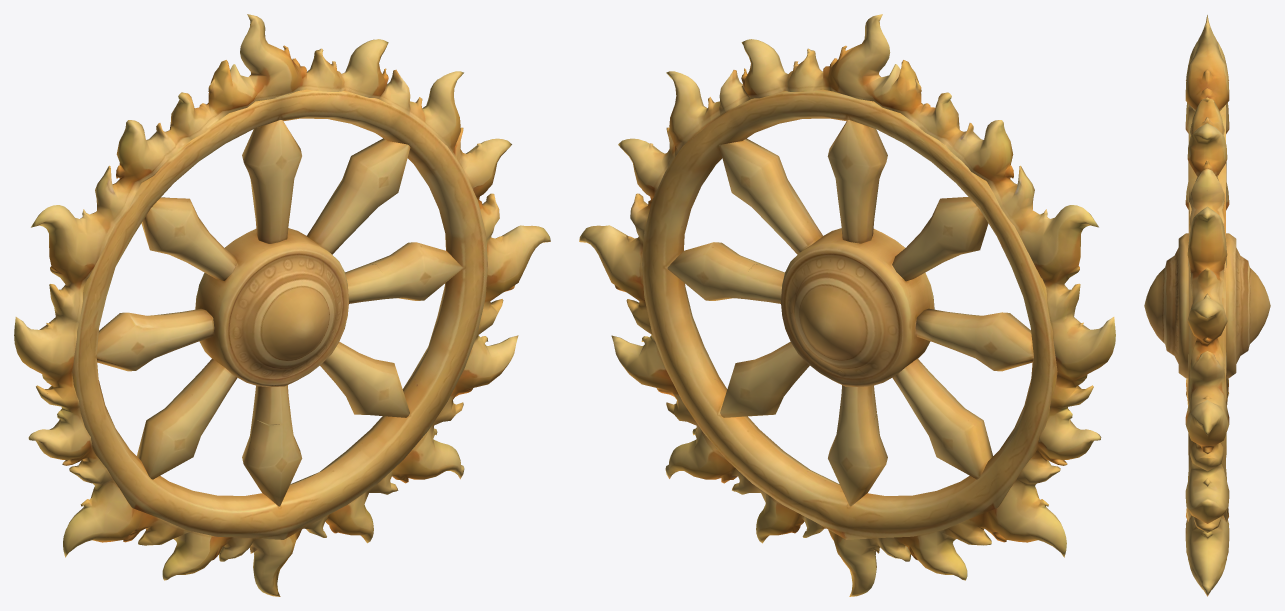
Rendered from SM_BossPart_HanbaSunRing.glb.
The picture shows the model from 3 angles, left to right: view 1: azimuth 30°, elevation 25°; view 2: azimuth 150°, elevation 25°; view 3: azimuth 270°, elevation 25°; orthographic projection. The views are drawn at different scales.
Visible parts, largest first — view 1: SM_BossPart_HanbaSunRing_LOD0; view 2: SM_BossPart_HanbaSunRing_LOD0; view 3: SM_BossPart_HanbaSunRing_LOD0.
Boxes of the visible parts, left/top/right/bottom form: SM_BossPart_HanbaSunRing_LOD0: left=14, top=14, right=550, bottom=596; SM_BossPart_HanbaSunRing_LOD0: left=579, top=14, right=1115, bottom=596; SM_BossPart_HanbaSunRing_LOD0: left=1144, top=15, right=1270, bottom=596.
Size of the model in its own units: 5.7 by 6 by 1.24.
1 material, 1 textured.
